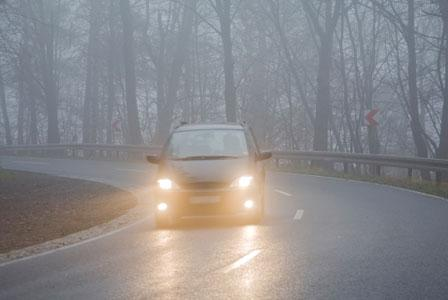car: (144, 121, 275, 231)
